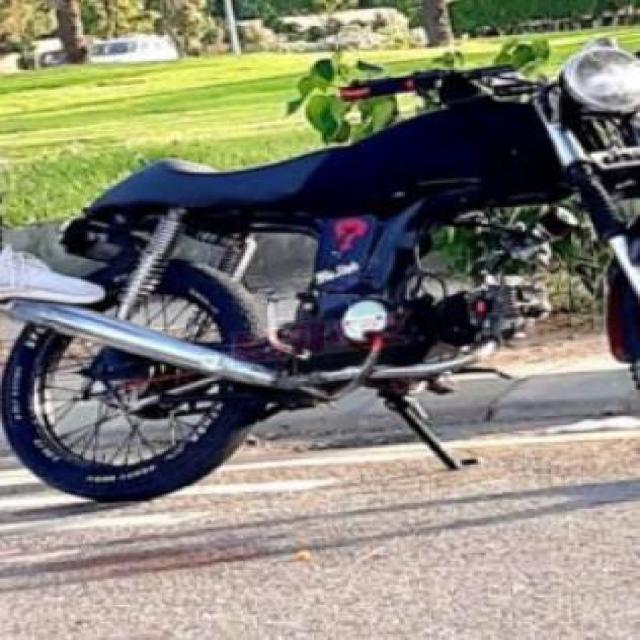motorcycle: (6, 12, 640, 514)
